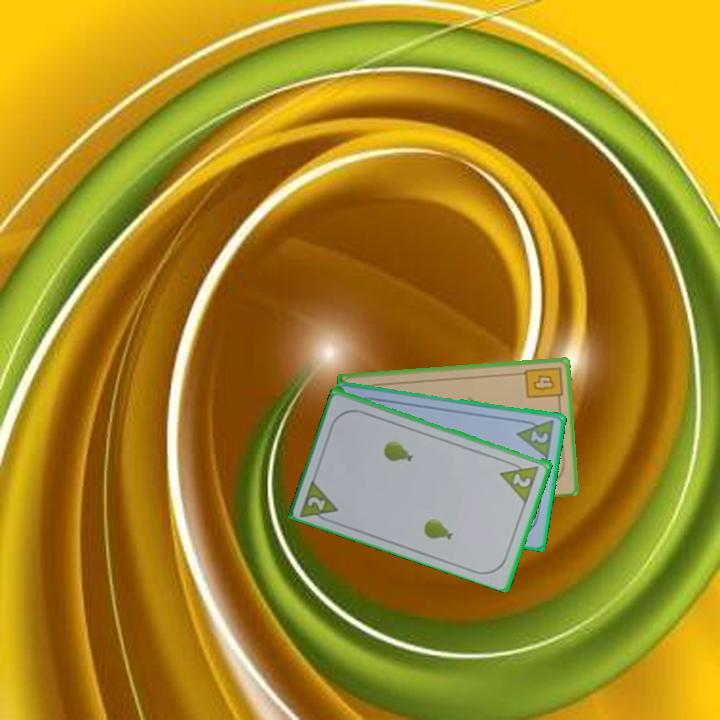2p: (297, 474, 342, 526), (509, 469, 534, 490), (527, 426, 551, 446)
4b: (521, 363, 565, 406)
